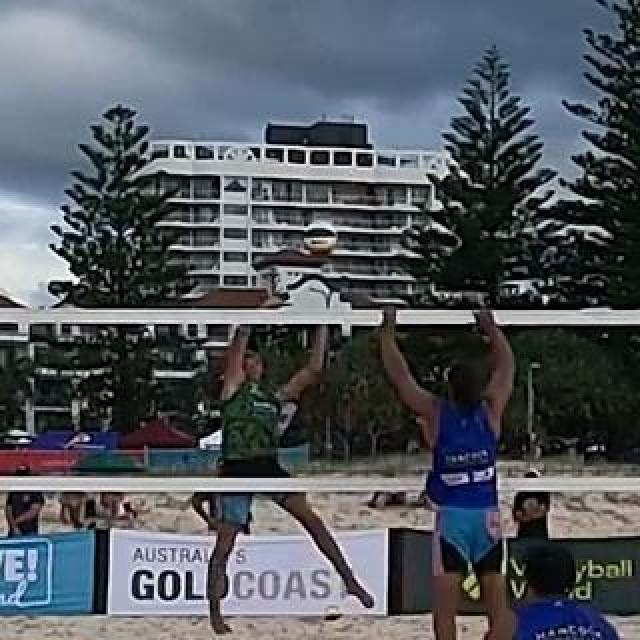volleyball: (304, 221, 338, 257)
